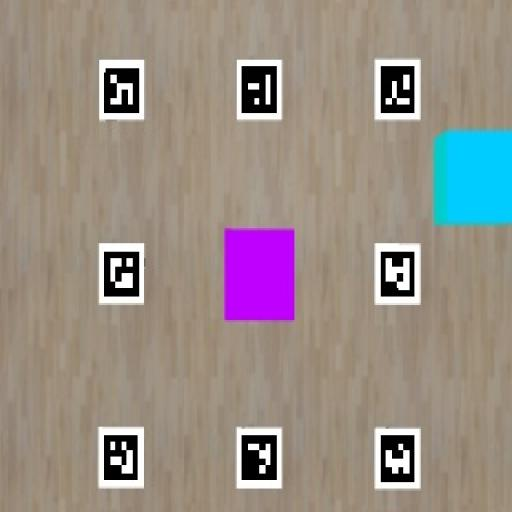car: (432, 131, 511, 226), (224, 229, 295, 322)
